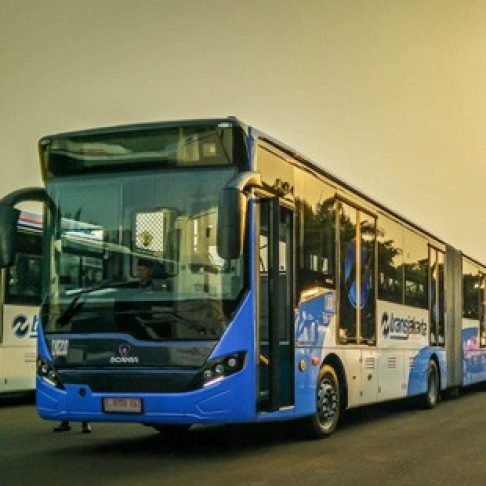bus: (33, 114, 484, 440)
